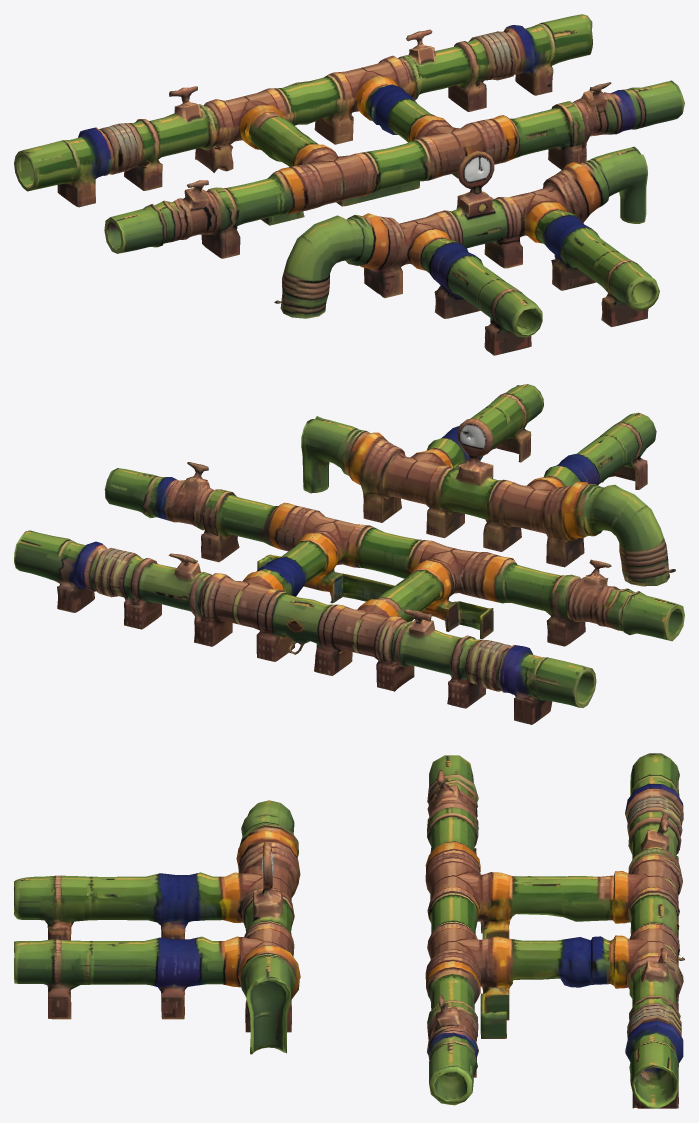
The model's file is Infrimary_Pipe_Cross_Junction.glb.
The picture shows the model from 3 angles, top to bottom: view 1: azimuth 30°, elevation 25°; view 2: azimuth 150°, elevation 25°; view 3: azimuth 270°, elevation 25°; orthographic projection. The views are drawn at different scales.
Size of the model in its own units: 1.91 by 0.3766 by 1.73.
1 material, 1 textured.
